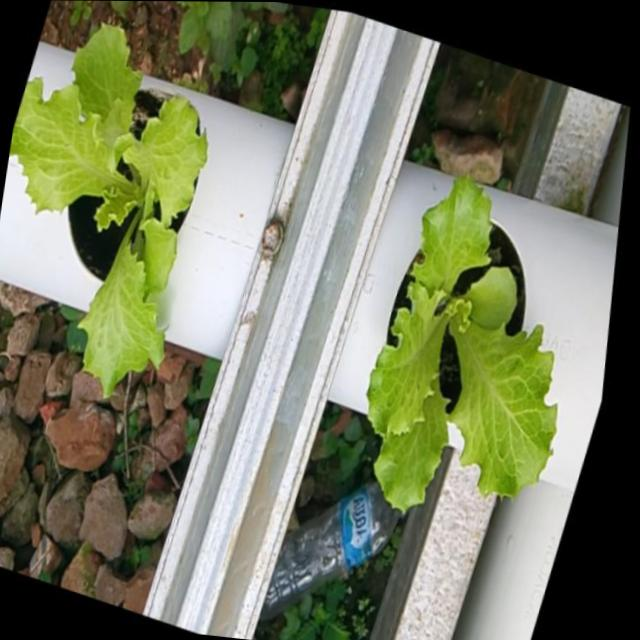Baby: (13, 26, 212, 397), (369, 173, 560, 513)
